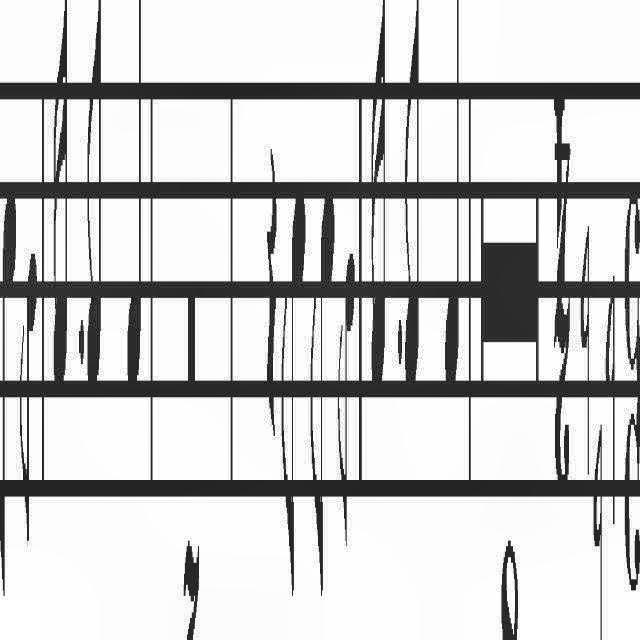Bemol: (604, 243, 620, 537), (592, 403, 609, 640), (578, 215, 590, 500)
Eighth-note: (276, 179, 308, 593), (308, 146, 336, 592), (0, 132, 18, 628), (404, 0, 420, 436), (87, 0, 104, 408)
Quarter-note: (122, 1, 150, 432), (441, 0, 464, 414)
Quarter-rest: (260, 142, 280, 446)
Sixteenth-note: (44, 0, 70, 448), (366, 0, 392, 436)
